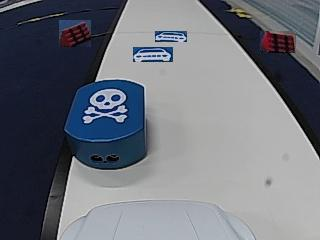danger: (83, 89, 125, 124)
